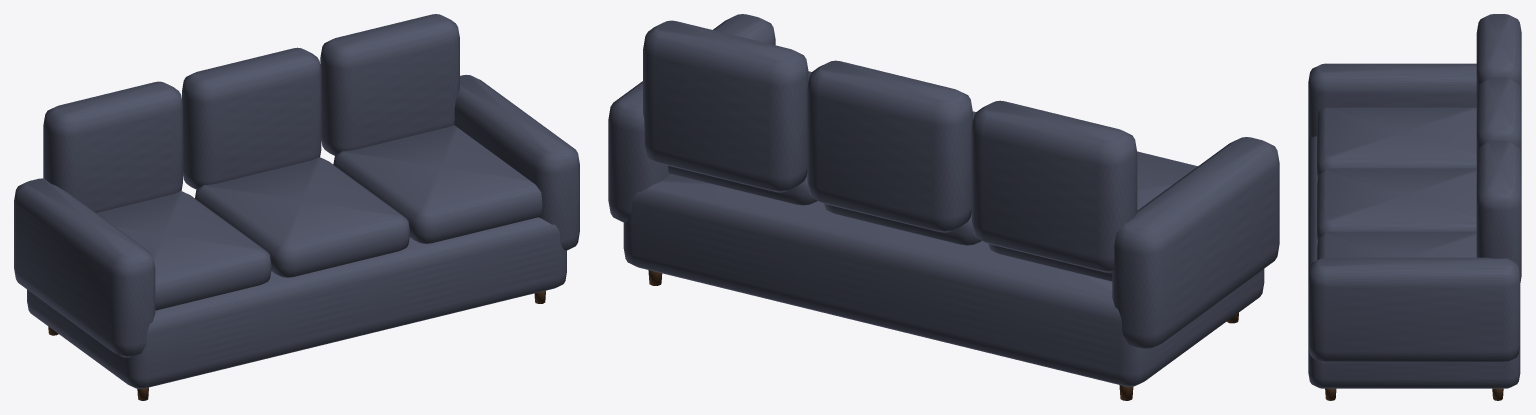
The model's file is sofa.glb.
3 views of the same model, side by side, from view 1: azimuth 30°, elevation 25°; view 2: azimuth 150°, elevation 25°; view 3: azimuth 270°, elevation 25° (orthographic). The views are drawn at different scales.
Parts seen in each view (by area): view 1: Sofa; view 2: Sofa; view 3: Sofa.
Boxes of the visible parts, bbox=[...] form: Sofa: bbox=[14, 14, 579, 400]; Sofa: bbox=[608, 14, 1279, 400]; Sofa: bbox=[1308, 14, 1521, 400].
Size of the model in its own units: 2.02 by 0.91 by 0.855.
Materials: 2 (2 with a texture image).
